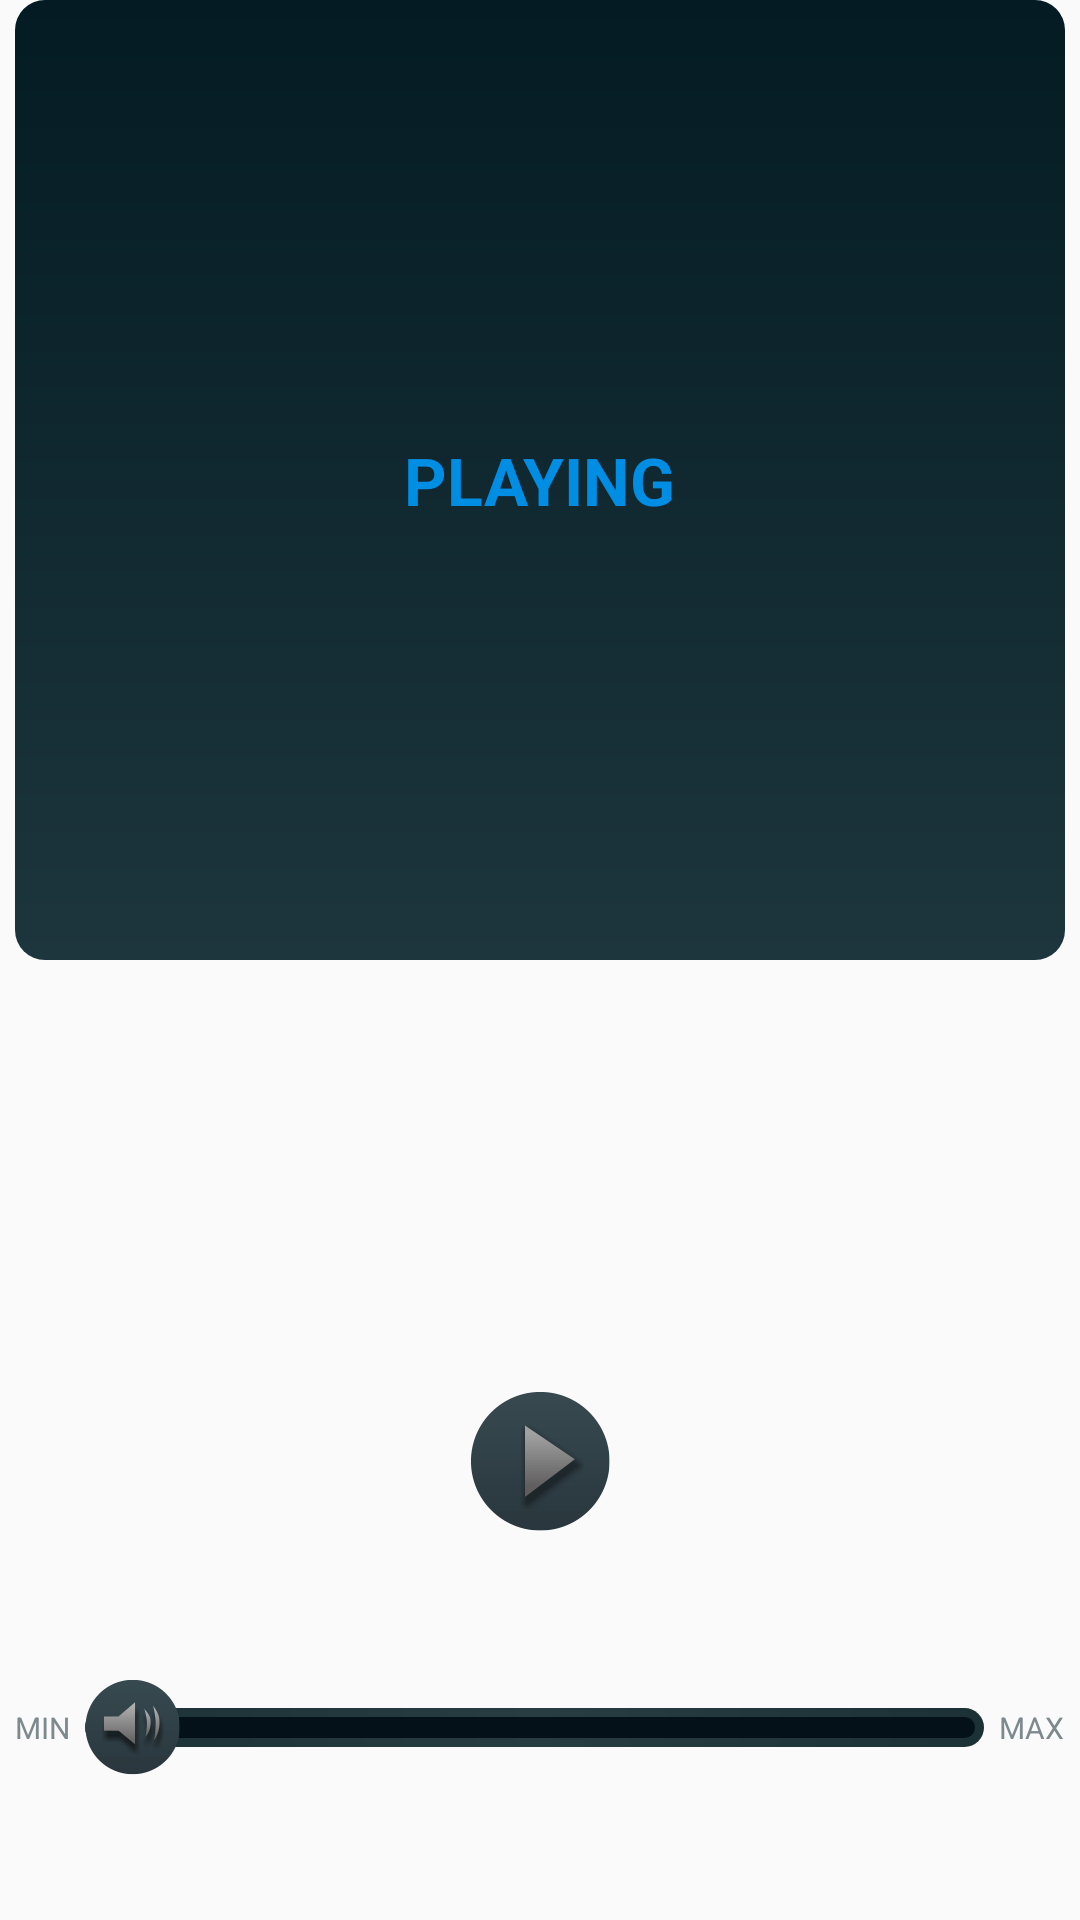

Screen size 1080x1920. Icon name, then its box in pixels as (x1, y1, x2, y2):
play: (471, 1392, 610, 1531)
